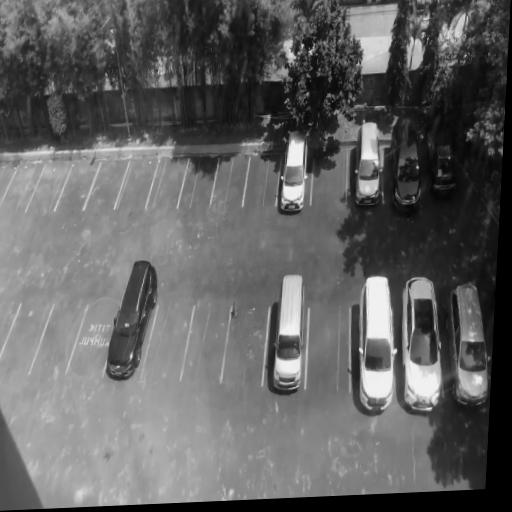Car: (101, 256, 164, 383), (402, 273, 446, 413), (445, 278, 490, 413), (268, 269, 308, 393), (360, 275, 395, 413), (388, 116, 420, 218), (420, 120, 460, 199), (277, 126, 311, 214), (354, 117, 381, 208)
Space Available: (303, 305, 349, 395), (180, 303, 231, 382), (220, 306, 269, 386), (29, 305, 87, 372), (140, 306, 193, 378), (67, 304, 118, 377), (0, 304, 53, 374), (24, 165, 72, 215), (113, 159, 158, 210), (145, 157, 190, 208), (53, 164, 100, 212), (83, 161, 129, 210), (0, 163, 45, 213), (209, 155, 251, 208), (177, 156, 220, 207), (310, 149, 347, 208), (242, 156, 281, 207), (0, 305, 18, 353), (0, 162, 17, 205)
